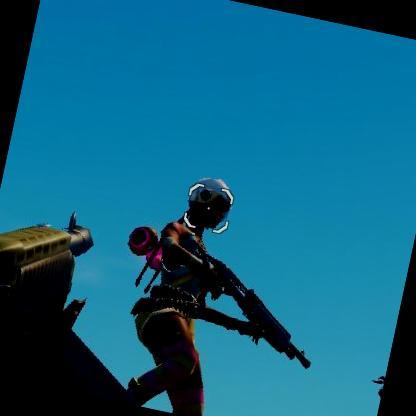person: (113, 155, 257, 416)
